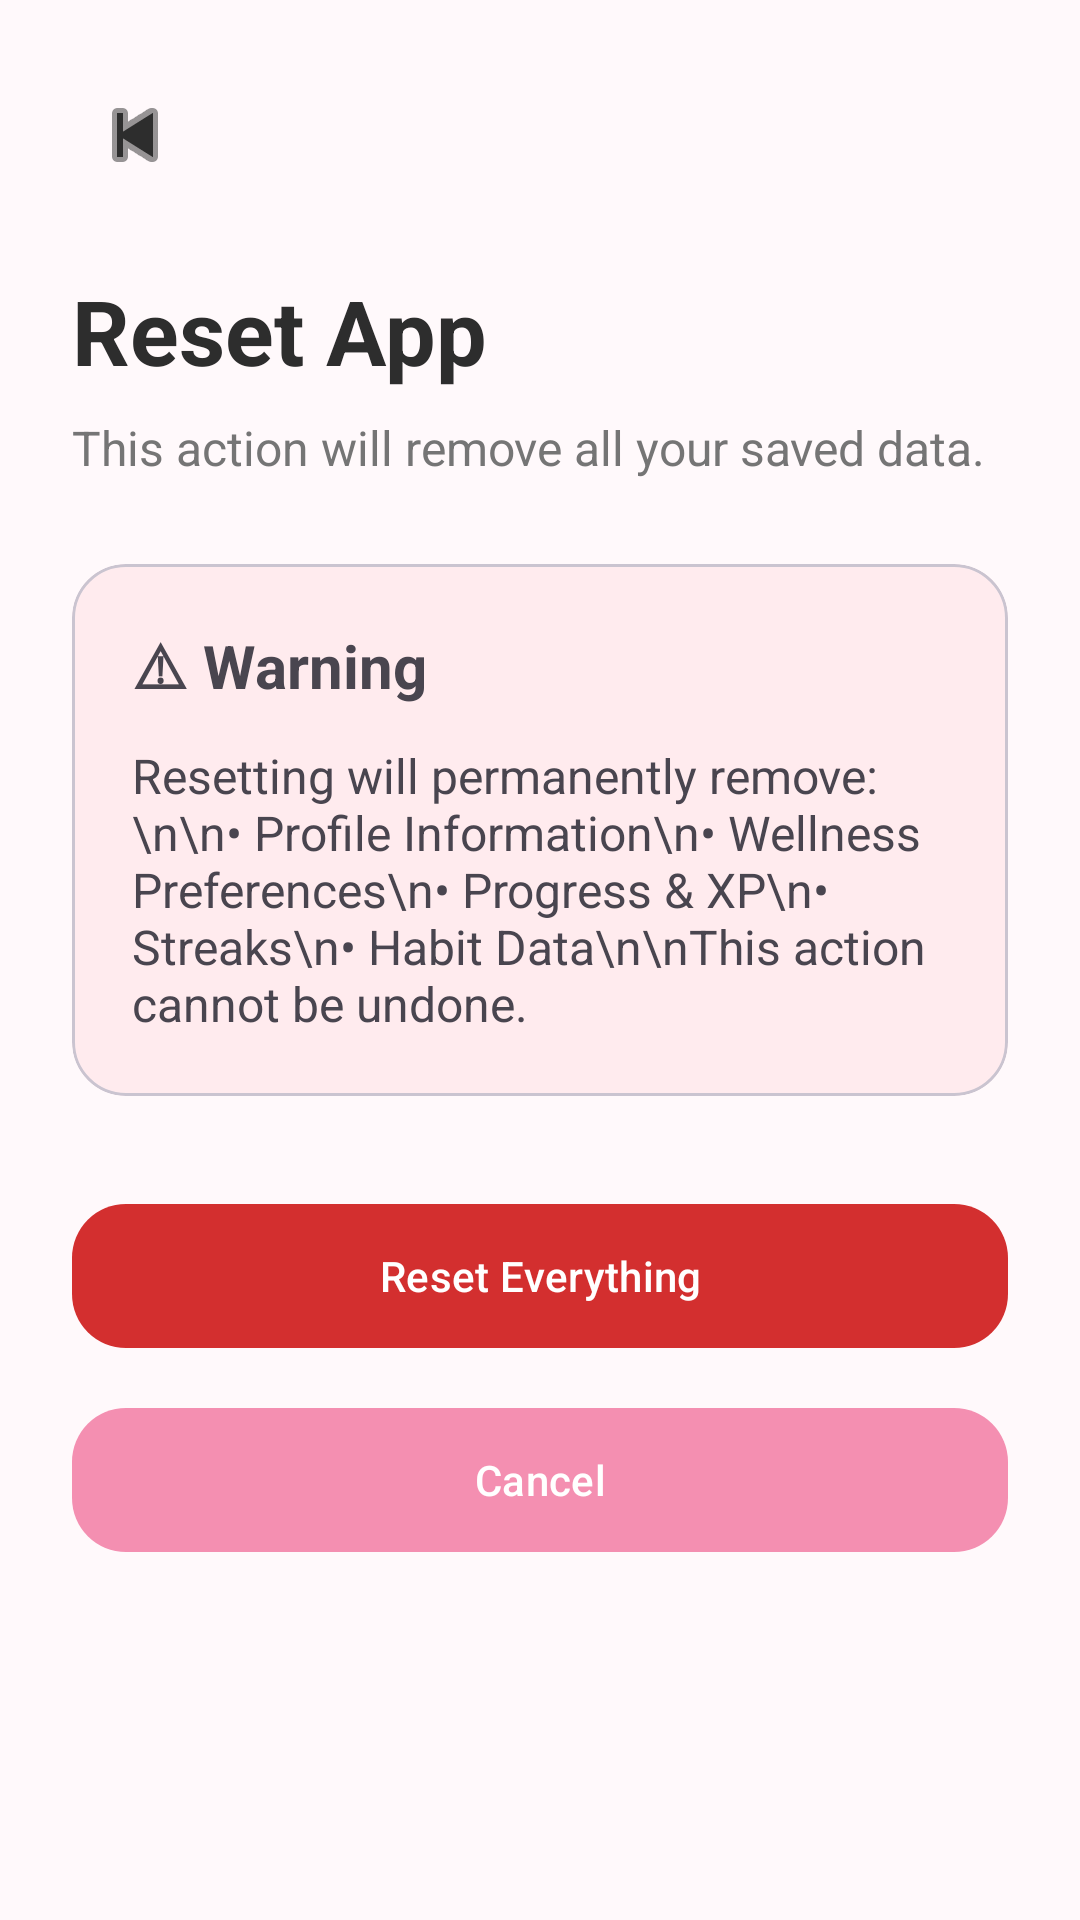

Named icons in this screenshot (1080 x 1920) and their bounding boxes, (x1, y1, x2, y2):
previous: (112, 108, 158, 162)
